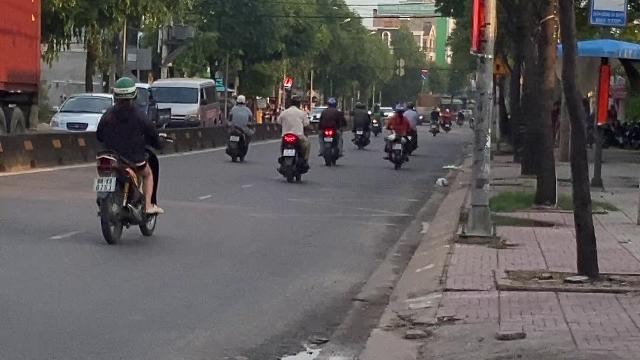helmet: (110, 76, 138, 104)
licenseplate: (95, 177, 115, 191)
motorcyclist: (88, 75, 164, 243)
